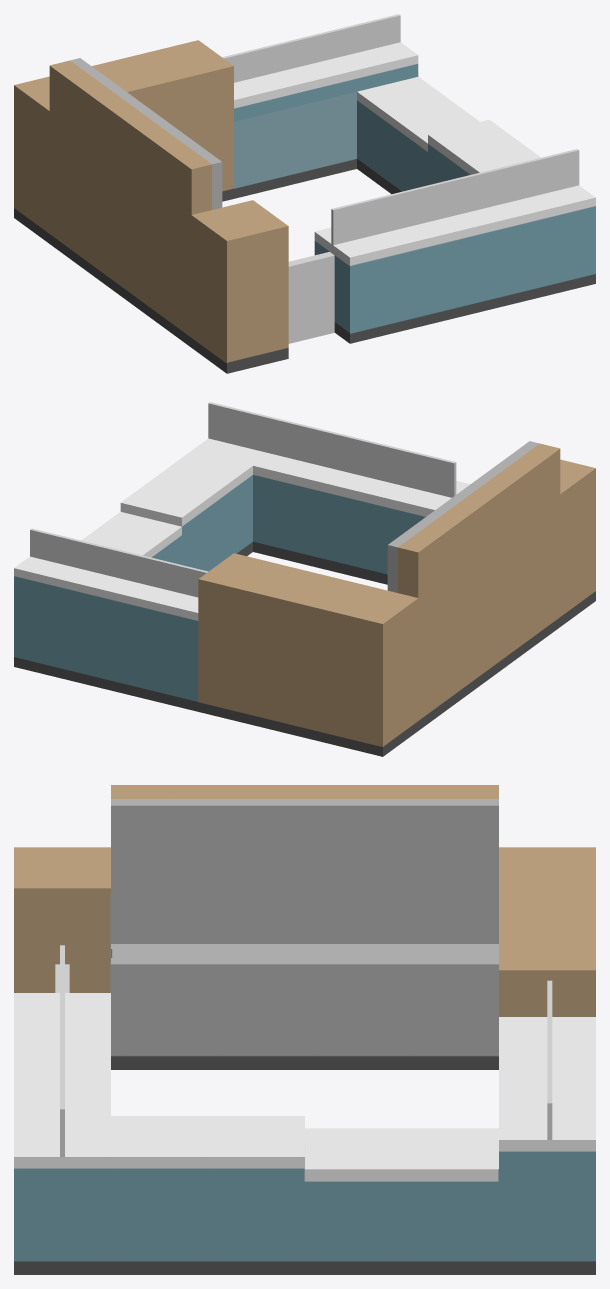
Rendered from Booth5.fbx.
3 views of the same model, one above another, from view 1: azimuth 30°, elevation 25°; view 2: azimuth 150°, elevation 25°; view 3: azimuth 270°, elevation 25° (orthographic). The views are drawn at different scales.
Parts seen in each view (by area): view 1: Booth, Cube.002, Cube.003, Cube.001; view 2: Booth, Cube.002, Cube.003; view 3: Booth, Cube.002, Cube.003.
Boxes of the visible parts, left/top/right/bottom form: Booth: left=14, top=40, right=595, bottom=373; Cube.002: left=331, top=149, right=579, bottom=245; Cube.003: left=222, top=14, right=400, bottom=82; Cube.001: left=288, top=252, right=334, bottom=343; Booth: left=14, top=438, right=595, bottom=756; Cube.002: left=208, top=402, right=456, bottom=497; Cube.003: left=30, top=528, right=208, bottom=597; Booth: left=14, top=785, right=595, bottom=1274; Cube.002: left=60, top=945, right=64, bottom=1156; Cube.003: left=547, top=980, right=552, bottom=1139.
Size of the model in its own units: 330 by 153 by 330.
